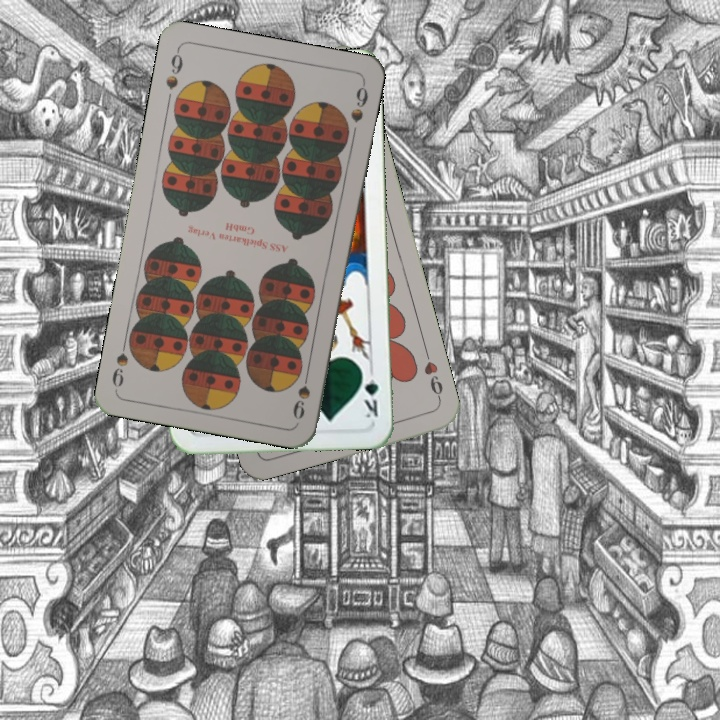GK: (358, 363, 381, 421)
H9: (420, 346, 446, 405)
S9: (288, 364, 313, 423), (161, 46, 186, 92)
